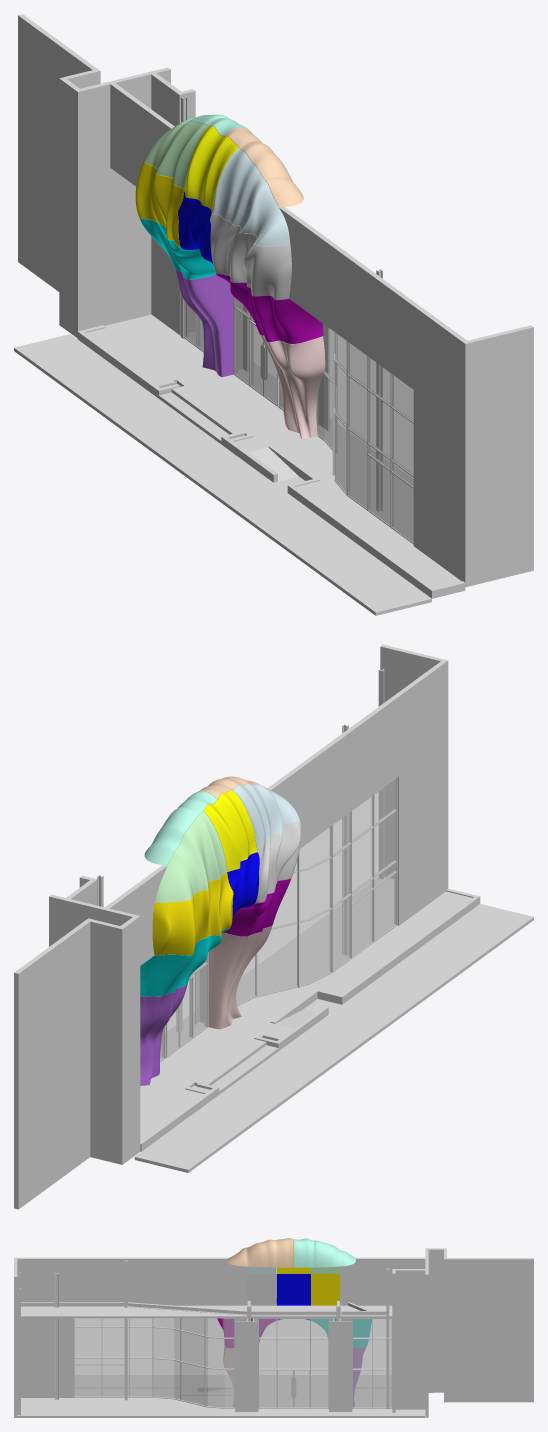
File: AIGC.YY_005a.glb
3 renders of one model, top to bottom at view 1: azimuth 30°, elevation 25°; view 2: azimuth 150°, elevation 25°; view 3: azimuth 270°, elevation 25°, orthographic. The views are drawn at different scales.
Visible parts, largest first — view 1: IfcSlab/樓板:通用 - 15cm:260380, IfcWindow/Swin:Swin:317530, Brep.005, Brep.009, Brep.001, Brep.002, Brep.003, Brep.006, Brep.011, Brep.007, Brep, Brep.010 (+4 smaller); view 2: IfcSlab/樓板:通用 - 15cm:260380, IfcWindow/Swin:Swin:317530, Brep.011, Brep.007, Brep.001, Brep.006, Brep.004, Brep.002, Brep.005, Brep.009, Brep.008, Brep.003 (+5 smaller); view 3: IfcSlab/樓板:通用 - 15cm:260380, IfcWindow/Swin:Swin:317530, IfcMember/矩形豎框:50 x 150mm:304332, Brep, Brep.008, Brep.010, Brep.009, Brep.011, IfcBeam/H 型鋼樑:H150x300:268284, Brep.004, IfcColumn/H 型鋼柱:H250x300:264710, IfcColumn/H 型鋼柱:H200x200 2:274339 (+9 smaller).
Boxes of the visible parts, <box> form: IfcSlab/樓板:通用 - 15cm:260380: <box>14,14,533,615</box>; IfcWindow/Swin:Swin:317530: <box>180,292,413,544</box>; Brep.005: <box>212,148,290,246</box>; Brep.009: <box>210,213,291,299</box>; Brep.001: <box>260,334,325,438</box>; Brep.002: <box>175,269,233,377</box>; Brep.003: <box>215,273,322,343</box>; Brep.006: <box>184,126,238,212</box>; Brep.011: <box>135,161,184,247</box>; Brep.007: <box>144,121,208,189</box>; Brep: <box>224,127,303,206</box>; Brep.010: <box>178,191,213,264</box>; IfcSlab/樓板:通用 - 15cm:260380: <box>14,644,533,1209</box>; IfcWindow/Swin:Swin:317530: <box>160,778,397,1060</box>; Brep.011: <box>152,872,233,955</box>; Brep.007: <box>155,811,227,902</box>; Brep.001: <box>208,925,272,1029</box>; Brep.006: <box>203,790,257,871</box>; Brep.004: <box>140,928,229,996</box>; Brep.002: <box>140,984,187,1085</box>; Brep.005: <box>232,783,299,851</box>; Brep.009: <box>254,821,300,903</box>; Brep.008: <box>144,791,217,865</box>; Brep.003: <box>223,878,291,936</box>; IfcSlab/樓板:通用 - 15cm:260380: <box>14,1248,533,1417</box>; IfcWindow/Swin:Swin:317530: <box>74,1318,391,1408</box>; IfcMember/矩形豎框:50 x 150mm:304332: <box>258,1318,392,1408</box>; Brep: <box>227,1238,293,1267</box>; Brep.008: <box>294,1238,355,1267</box>; Brep.010: <box>276,1274,310,1320</box>; Brep.009: <box>246,1274,276,1305</box>; Brep.011: <box>311,1274,339,1305</box>; IfcBeam/H 型鋼樑:H150x300:268284: <box>128,1302,246,1315</box>; Brep.004: <box>311,1318,371,1347</box>; IfcColumn/H 型鋼柱:H250x300:264710: <box>54,1273,58,1399</box>; IfcColumn/H 型鋼柱:H200x200 2:274339: <box>386,1268,389,1408</box>.
Bounding box in the file's own units: 7.41 × 12.83 × 36.44.
